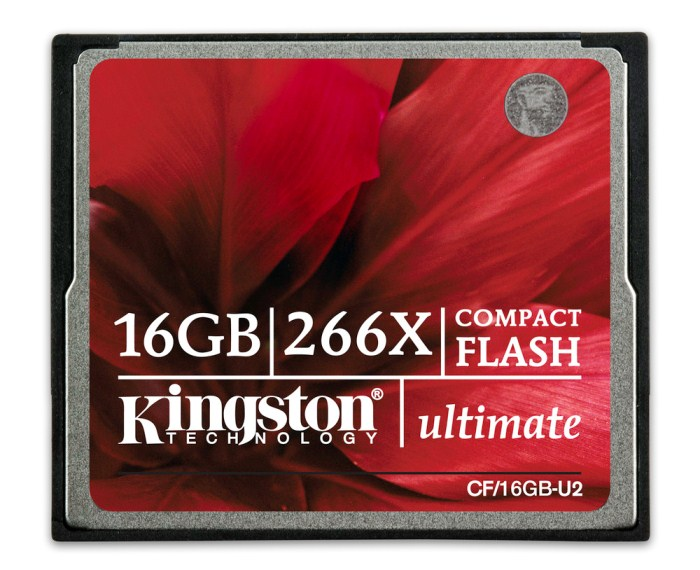Kingston: (115, 379, 394, 454), (491, 66, 582, 142)
